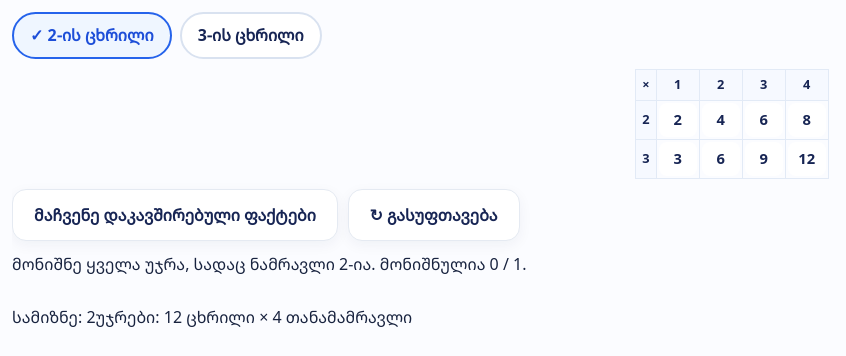
tools: the grid lab › asks for every cell that makes the target, then names the facts
Step 1. Click the button named "2 × 1 = 2" → (678, 120), box [659, 103, 697, 137]
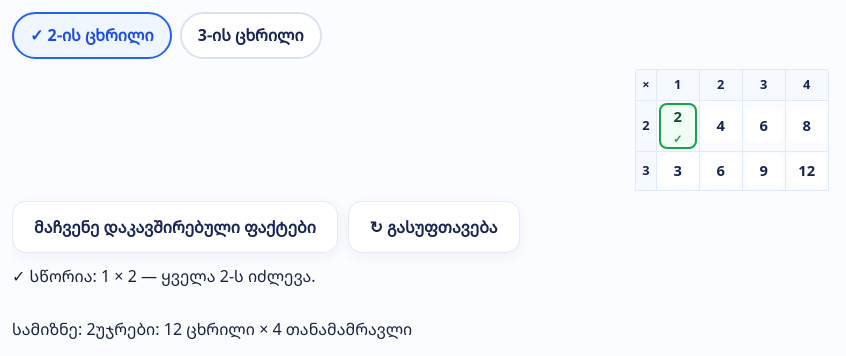
Result: the message with class "lab-status" shows "✓" at [12, 265, 316, 287]
Result: the message with class "lab-status" shows "1 × 2" at [12, 265, 316, 287]
